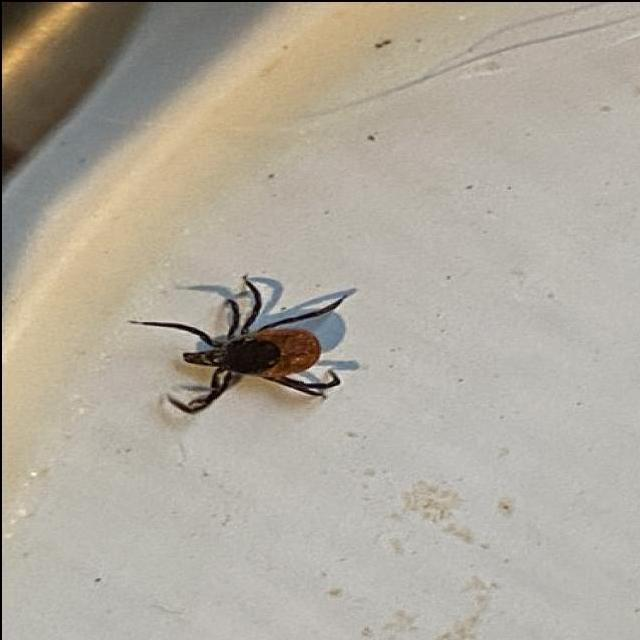Ixodes Ricinus-F: (126, 271, 357, 412)
